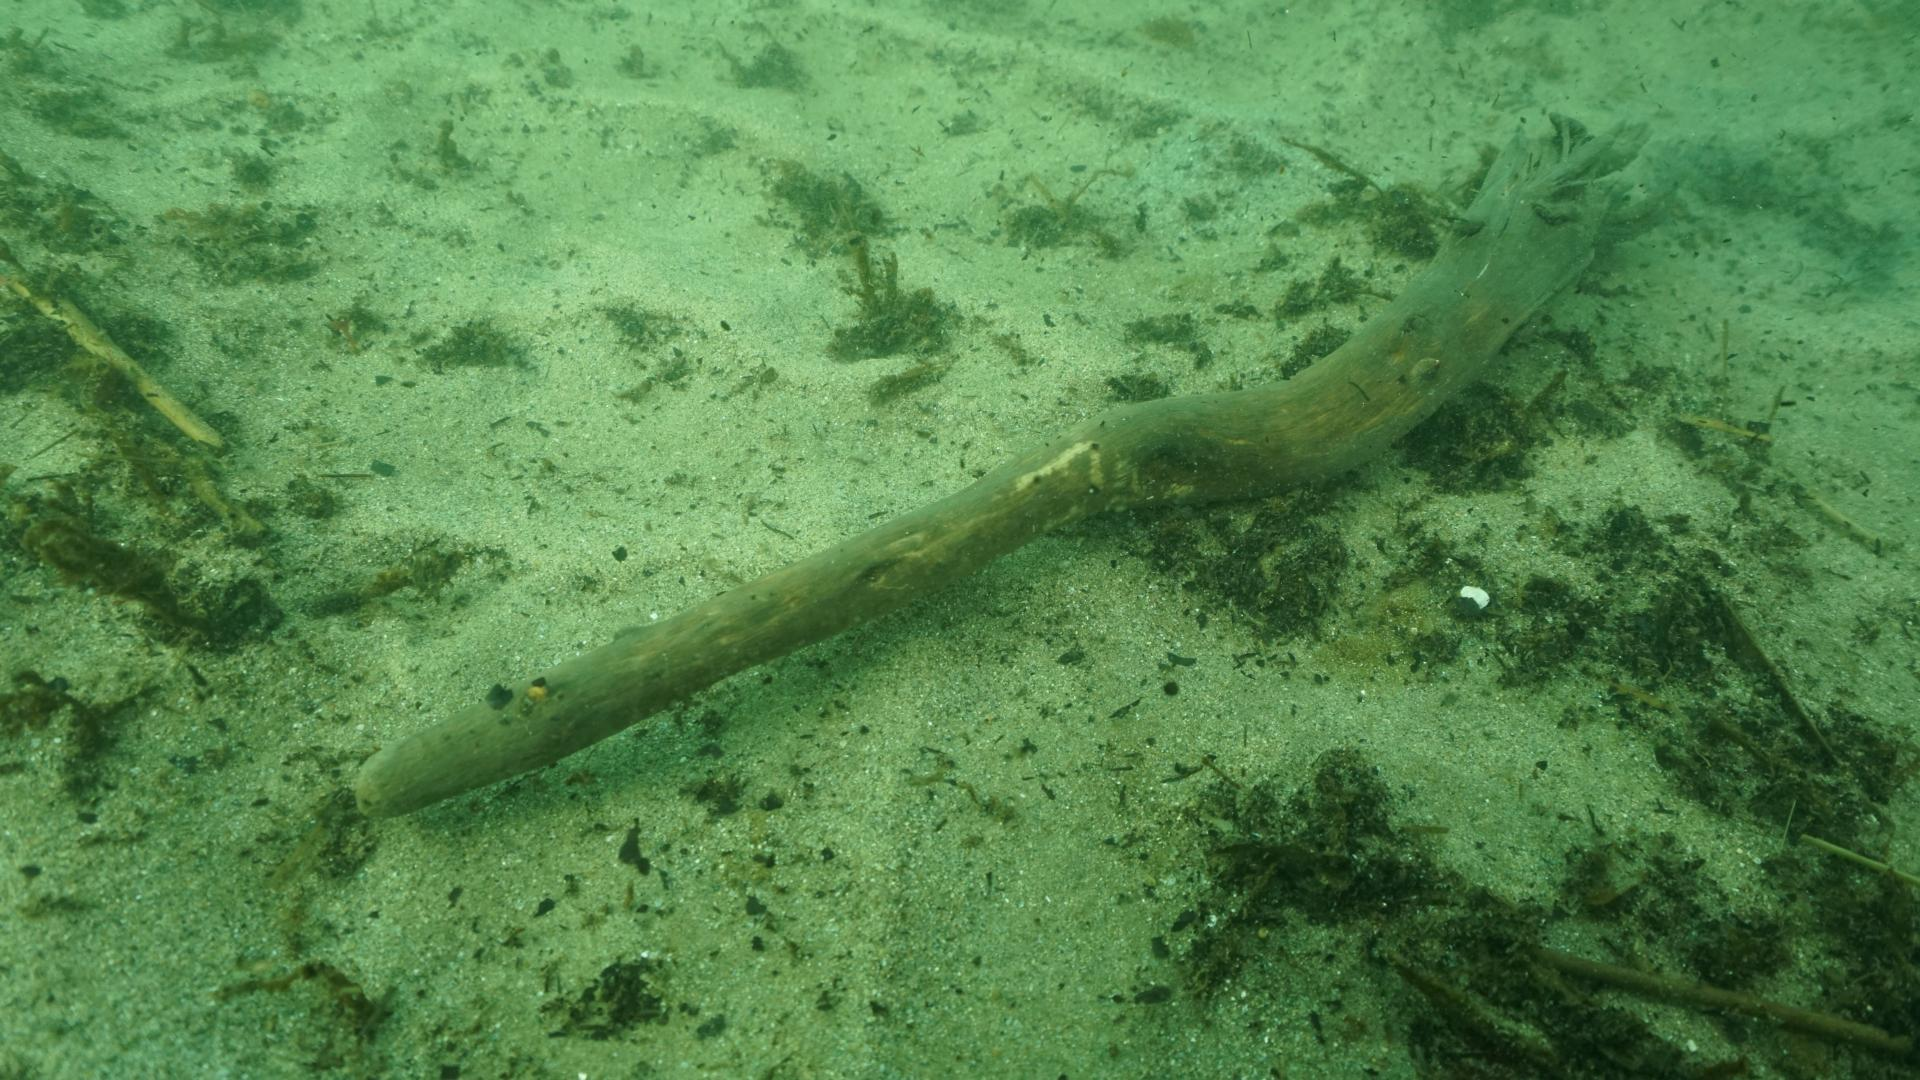wood: (353, 111, 1646, 820)
